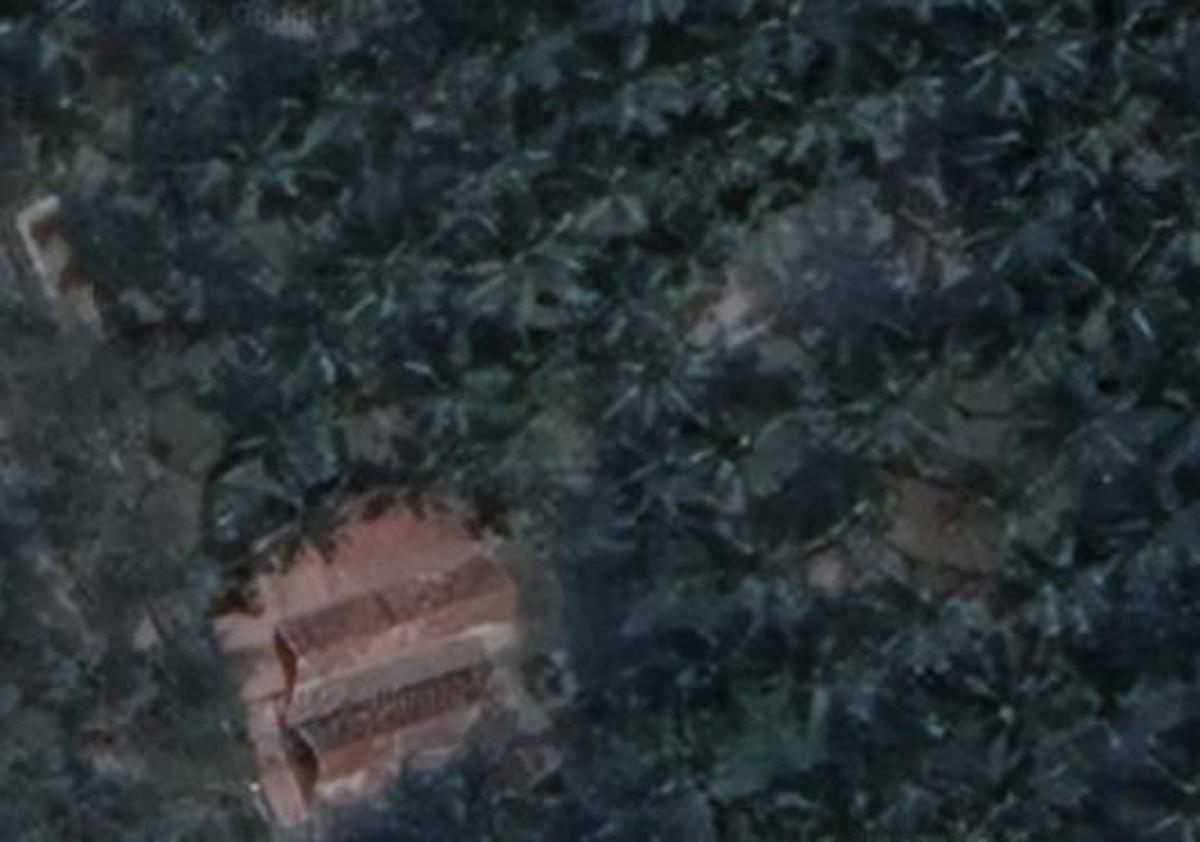coconut: (174, 101, 319, 228), (457, 199, 590, 323), (930, 726, 1075, 839), (751, 615, 873, 735), (858, 561, 978, 681), (704, 509, 826, 622), (470, 303, 584, 423), (561, 36, 683, 147), (249, 452, 362, 568), (960, 172, 1068, 291), (960, 0, 1077, 106), (962, 633, 1075, 742), (122, 11, 237, 117), (1070, 228, 1179, 337), (1012, 522, 1118, 629), (554, 135, 658, 242), (271, 58, 380, 160), (400, 332, 511, 432), (835, 357, 946, 457), (455, 108, 561, 210), (233, 393, 344, 488), (577, 248, 683, 344), (273, 296, 380, 391), (611, 337, 710, 439), (778, 54, 871, 162), (980, 282, 1080, 382), (796, 276, 905, 366), (337, 233, 448, 321), (1041, 382, 1154, 468), (382, 423, 482, 520), (672, 31, 776, 122), (153, 221, 251, 314), (609, 425, 699, 522), (1068, 70, 1159, 165), (853, 38, 944, 131), (688, 409, 785, 495), (1003, 104, 1091, 190), (808, 484, 896, 570), (0, 0, 101, 72)
